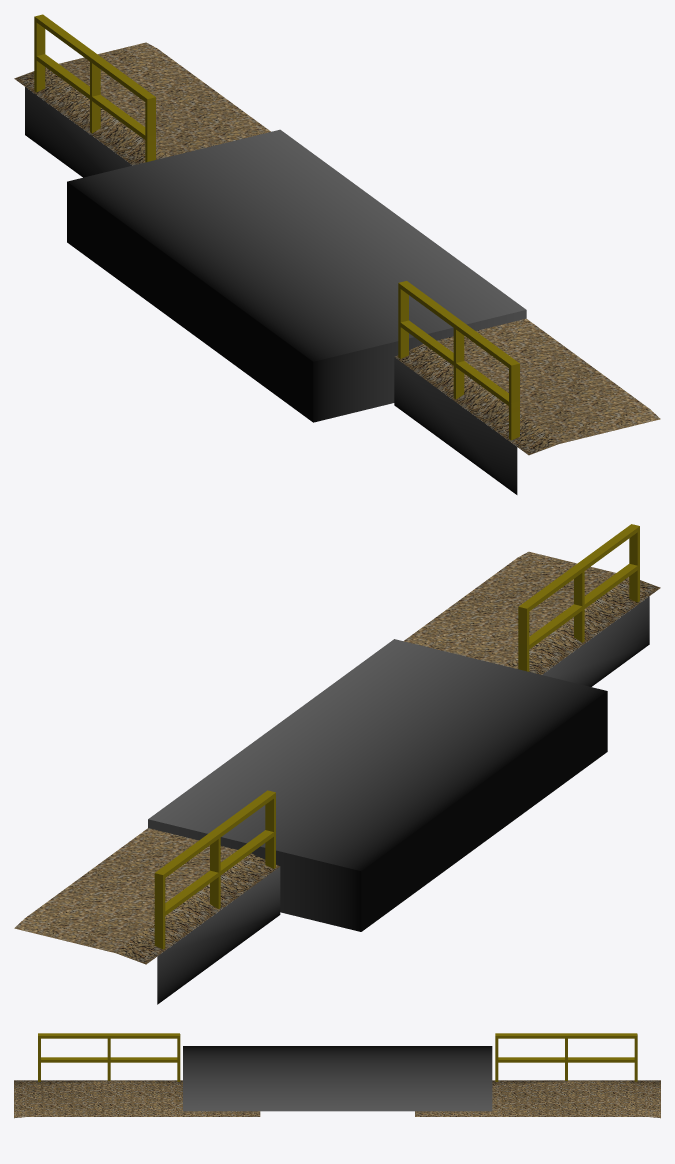
File: HUMIKIRI_R00.glb
3 renders of one model, top to bottom at view 1: azimuth 30°, elevation 25°; view 2: azimuth 150°, elevation 25°; view 3: azimuth 270°, elevation 25°, orthographic. The views are drawn at different scales.
Parts seen in each view (by area): view 1: Model; view 2: Model; view 3: Model.
Boxes of the visible parts, left/top/right/bottom form: Model: left=14, top=14, right=660, bottom=494; Model: left=14, top=524, right=660, bottom=1004; Model: left=14, top=1033, right=660, bottom=1118.
Bounding box in the file's own units: 25 × 13.86 × 105.
2 materials, 2 textured.
